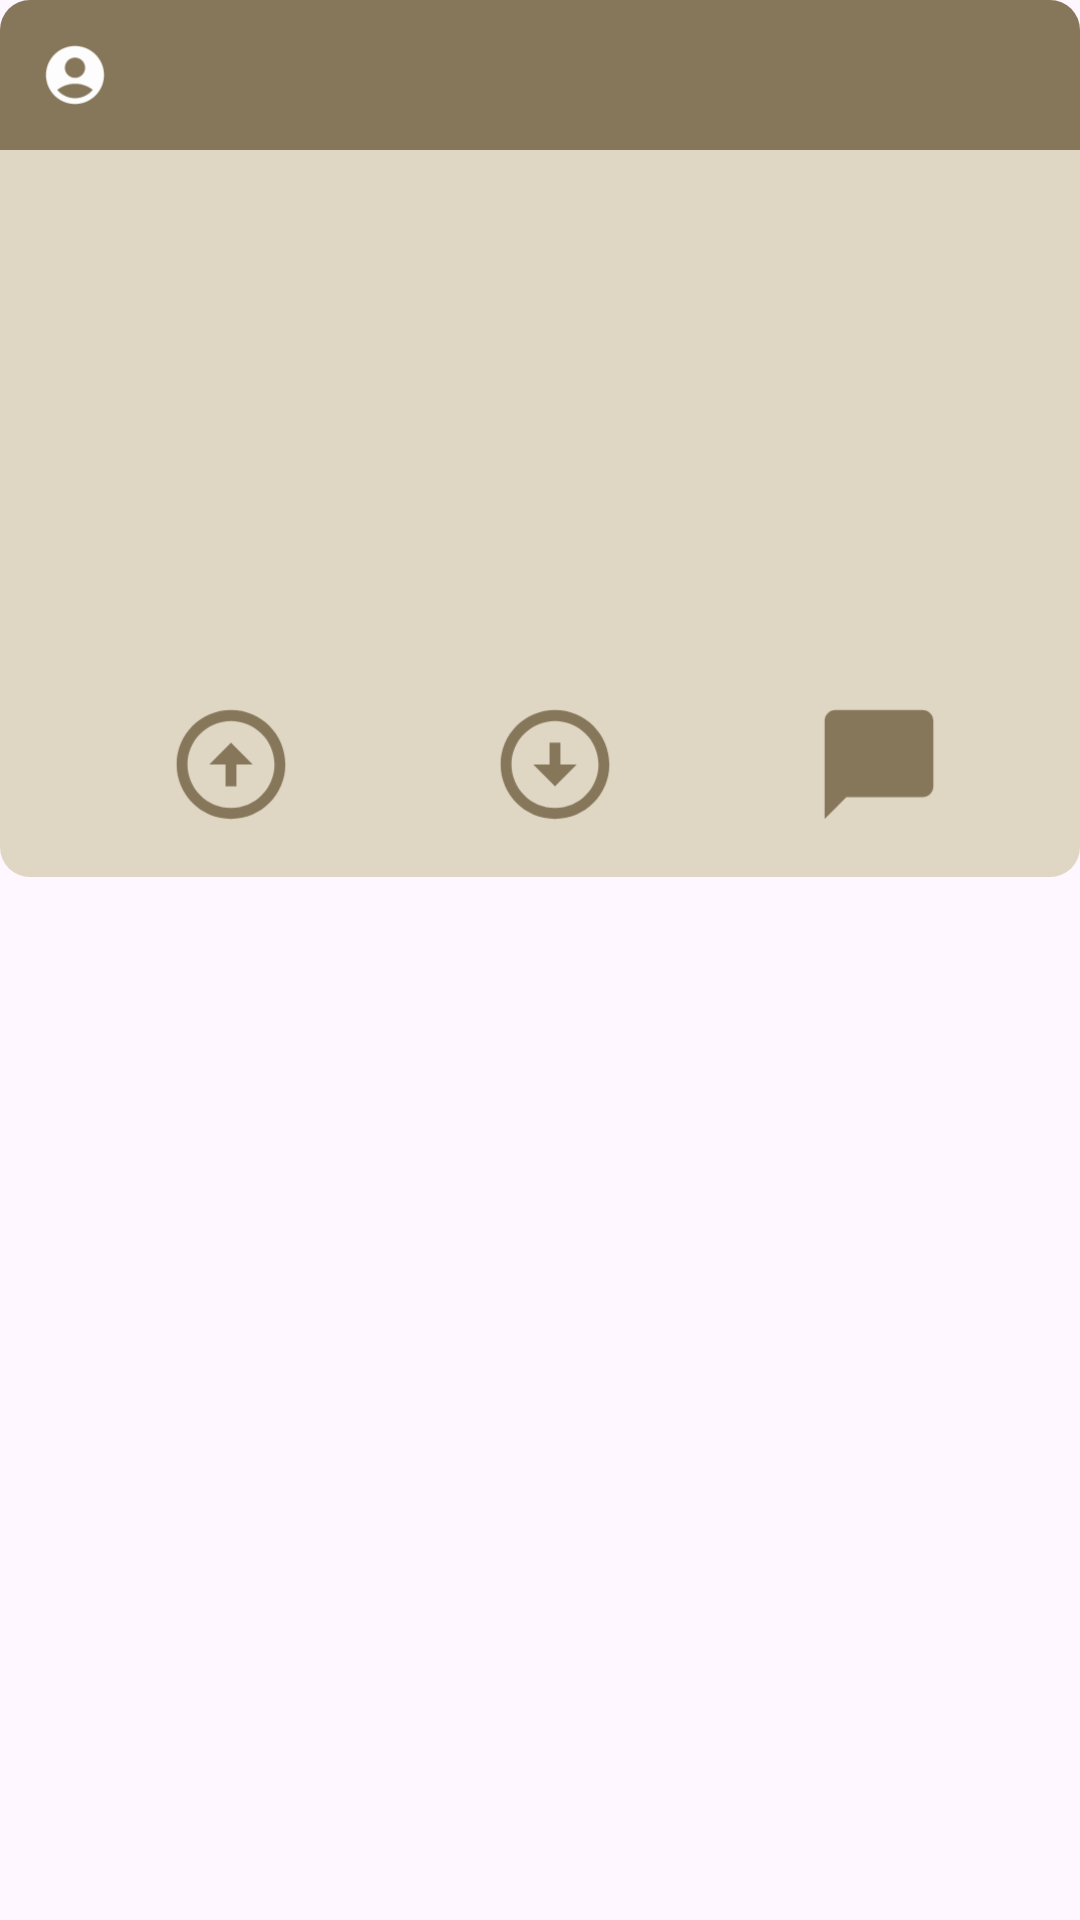

Where icons sit on this 1080 x 1920 app screen, as rect(x1, y1, x2, y2):
comment: rect(824, 710, 934, 819)
dislike: rect(500, 710, 610, 819)
like: rect(176, 710, 286, 819)
Profile Picture: rect(45, 45, 105, 105)
